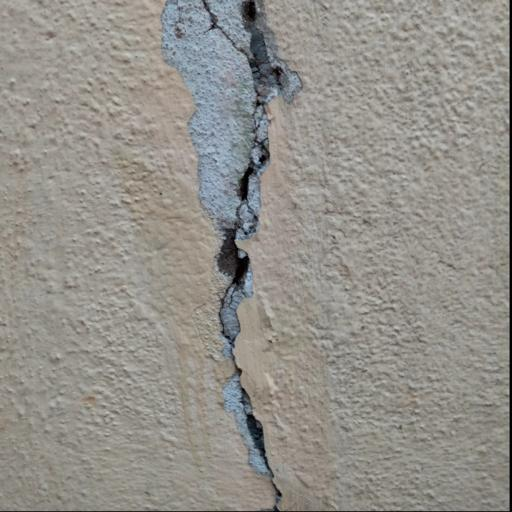major_crack: (179, 0, 300, 512)
